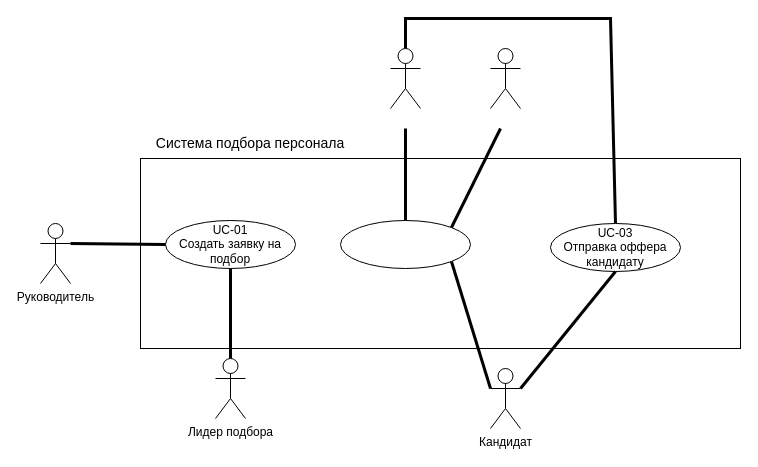
This 758x467 diagram has some shape labels left out. The shapes that lost their labels are listed below. From the top down, each one's centre as x and y in pixels, then its label:
At (x=405, y=78): "Рекрутер".
At (x=505, y=78): "Интервьювер".
At (x=405, y=244): "UC-02 Назначение интервью кандидату".
